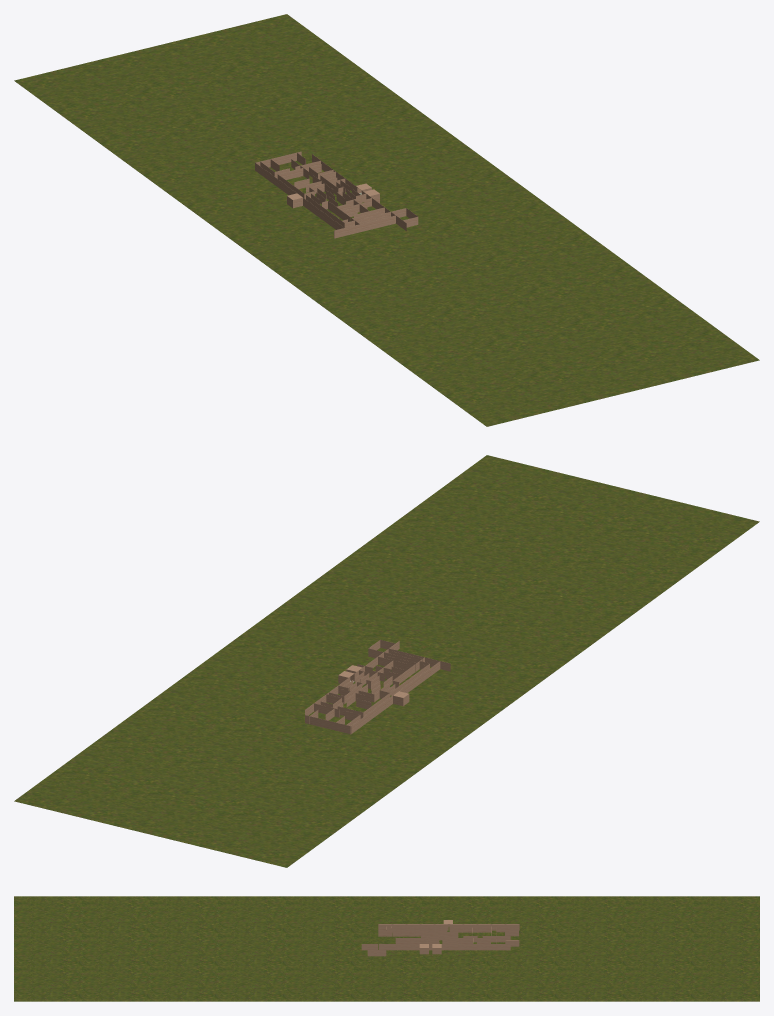
Rendered from LabirintoAtualizado.fbx.
3 views of the same model, one above another, from view 1: azimuth 30°, elevation 25°; view 2: azimuth 150°, elevation 25°; view 3: azimuth 270°, elevation 25° (orthographic). The views are drawn at different scales.
Parts seen in each view (by area): view 1: châo; view 2: châo; view 3: châo.
Part boxes in pixels (x1,y1,x2,y2): châo: (14,14,759,426); châo: (14,455,759,867); châo: (14,896,759,1001).
Bounding box in the file's own units: 20509 × 596 × 61528.
2 materials, 2 textured.
